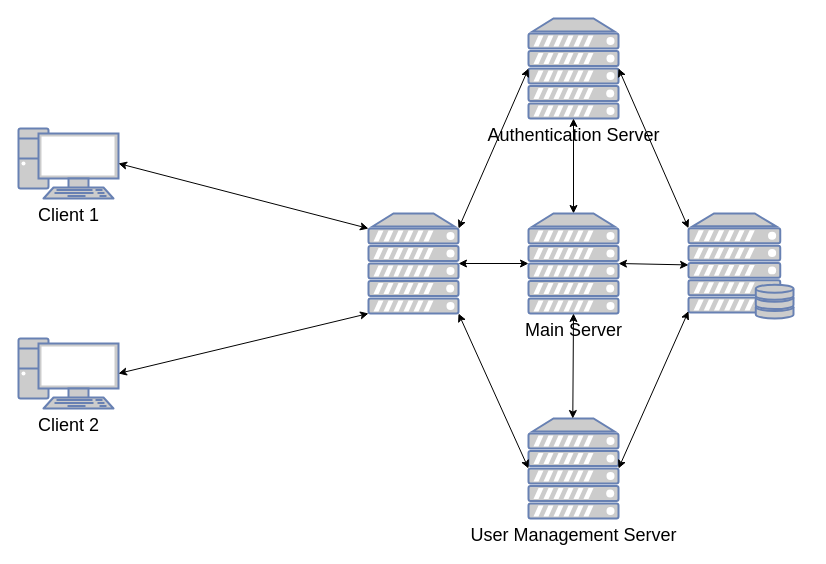
This 826x564 diagram has some shape labels left out. The shapes that lost their labels are listed below. From the top down, each one's box as (x1, y1, x2, y2) in pixels, then its label:
(367, 212, 459, 314): Gateway Server
(687, 212, 794, 319): Database Server
